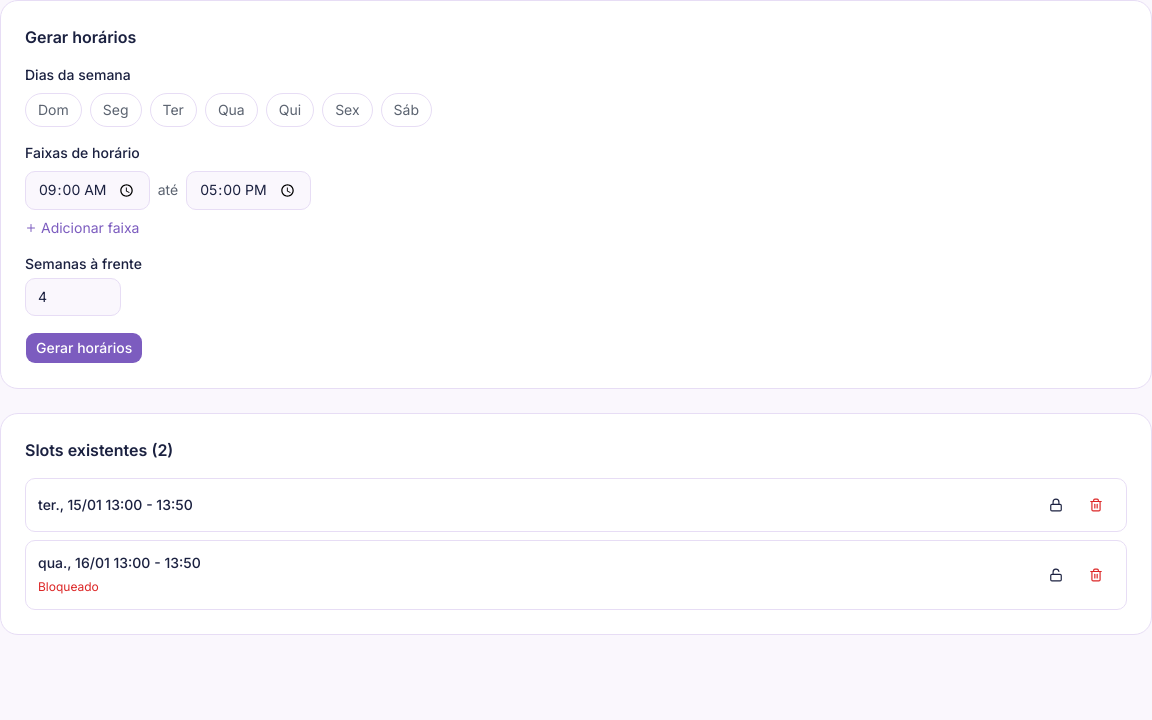
Test: AvailabilityEditor - geracao de horarios (GAP-04) › A3 submit sem dia: erro de dias na tela e nenhum POST
Step 1. Click the button with test id "form-generate-slots-submit-button" → (84, 348), box left=25, top=332, right=143, bottom=364
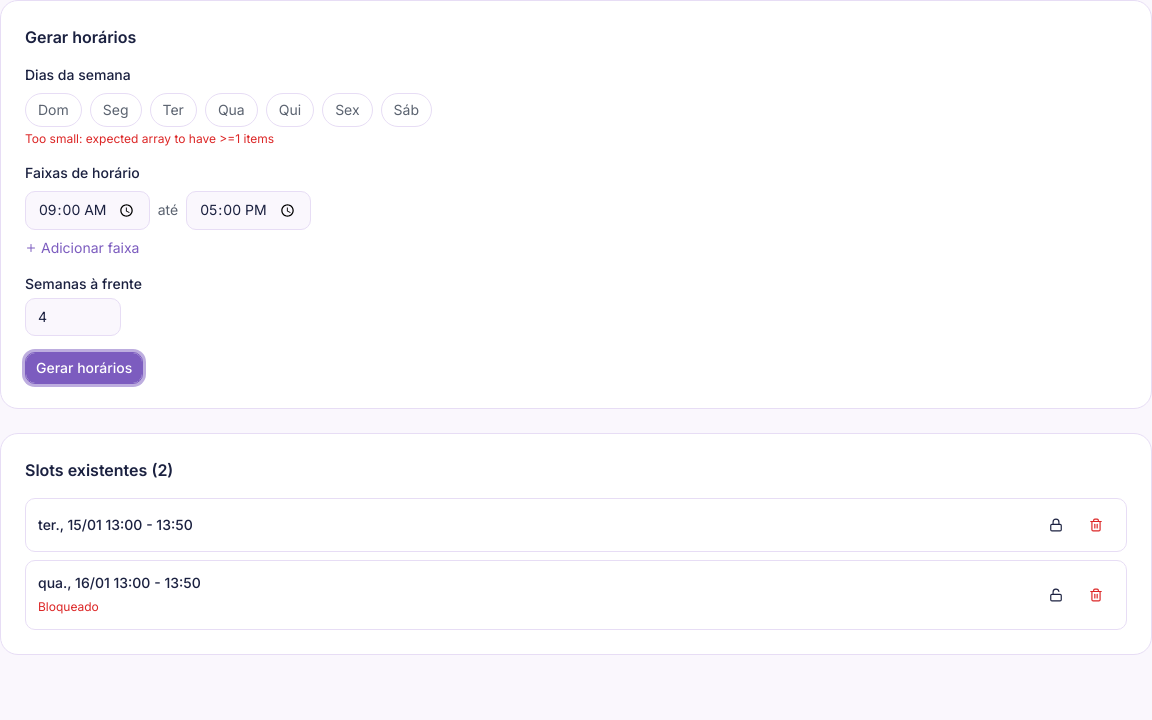
Expected: the text "Too small: expected array to have >=1 items" is shown, left=25, top=131, right=274, bottom=146
